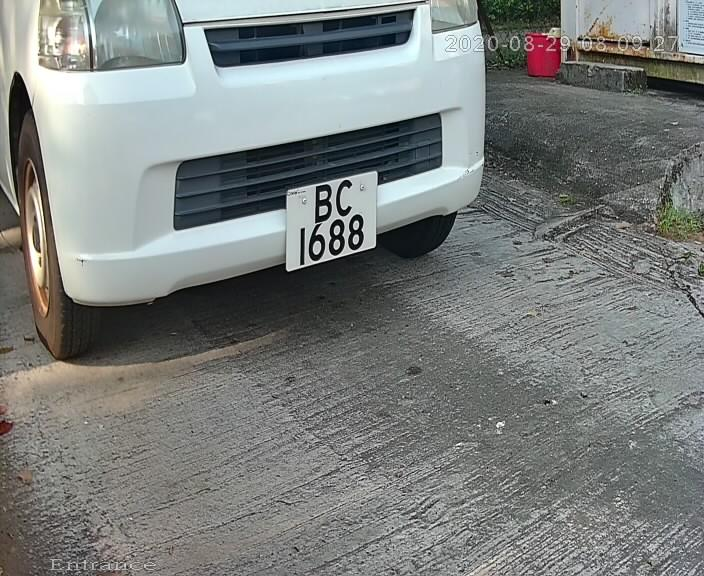Car: (10, 6, 529, 353)
License Plate: (274, 160, 395, 286)
